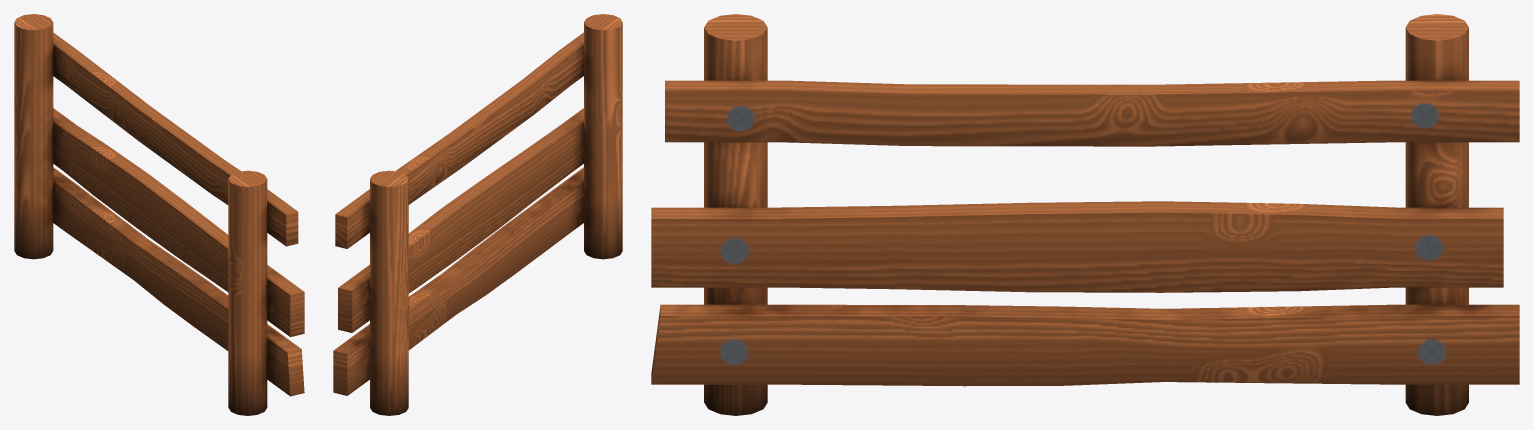
File: Fence1.fbx
3 views of the same model, side by side, from view 1: azimuth 30°, elevation 25°; view 2: azimuth 150°, elevation 25°; view 3: azimuth 270°, elevation 25° (orthographic). The views are drawn at different scales.
Visible parts, largest first — view 1: Fence1; view 2: Fence1; view 3: Fence1.
Part boxes in pixels (x1=…): Fence1: x1=14, y1=14, x2=304, y2=415; Fence1: x1=333, y1=14, x2=622, y2=415; Fence1: x1=651, y1=14, x2=1519, y2=415.
Size of the model in its own units: 25.78 by 118 by 248.
1 material, 1 textured.
